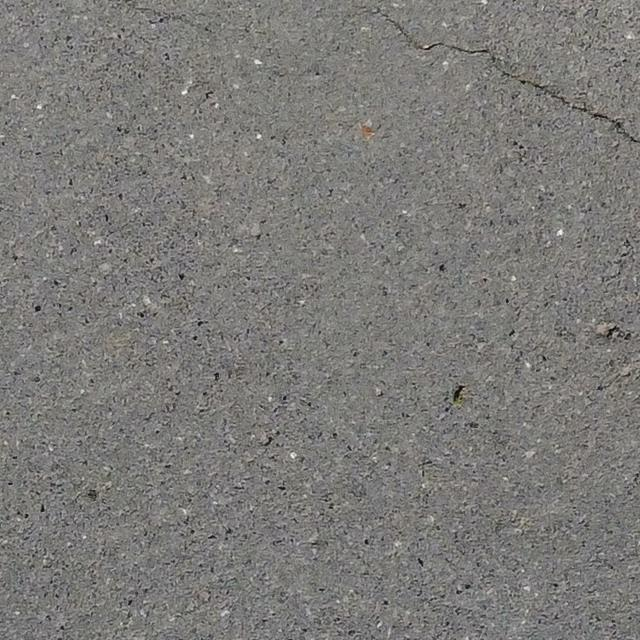TransverseCrack: (371, 4, 640, 141)
